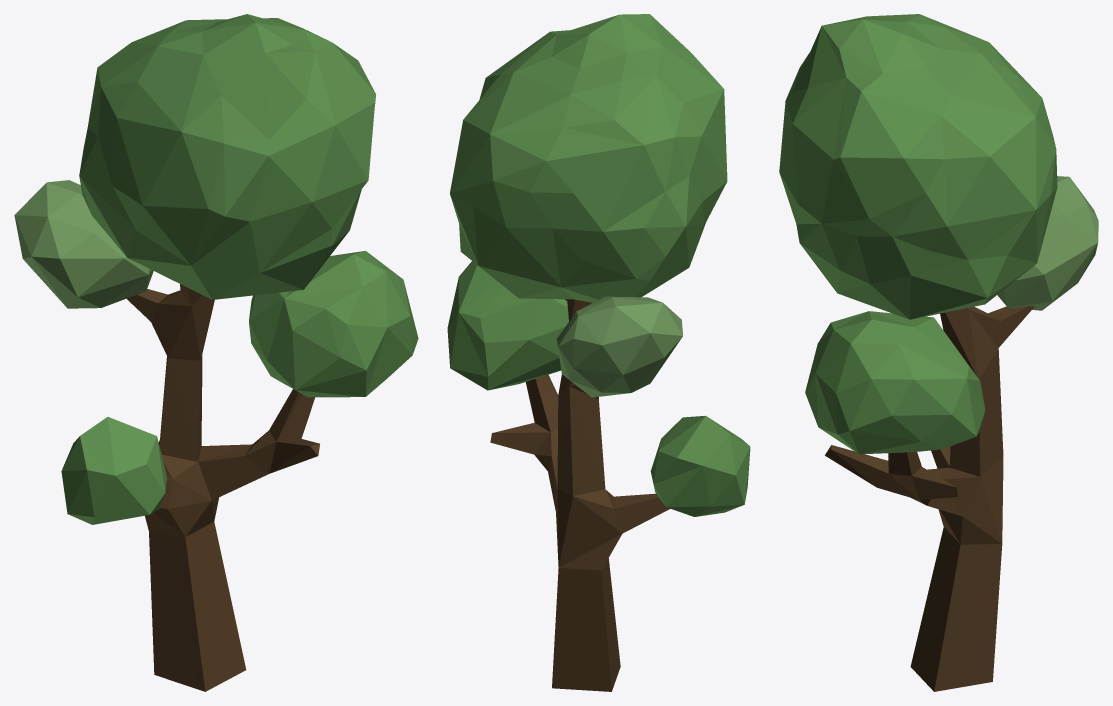
Rendered from Tree_01.fbx.
3 renders of one model, left to right at view 1: azimuth 30°, elevation 25°; view 2: azimuth 150°, elevation 25°; view 3: azimuth 270°, elevation 25°, orthographic. The views are drawn at different scales.
Visible parts, largest first — view 1: Tree_01; view 2: Tree_01; view 3: Tree_01.
Boxes of the visible parts, bbox=[...] form: Tree_01: bbox=[14, 14, 418, 691]; Tree_01: bbox=[447, 14, 750, 691]; Tree_01: bbox=[779, 14, 1098, 691].
Bounding box in the file's own units: 273 × 244 × 556.
